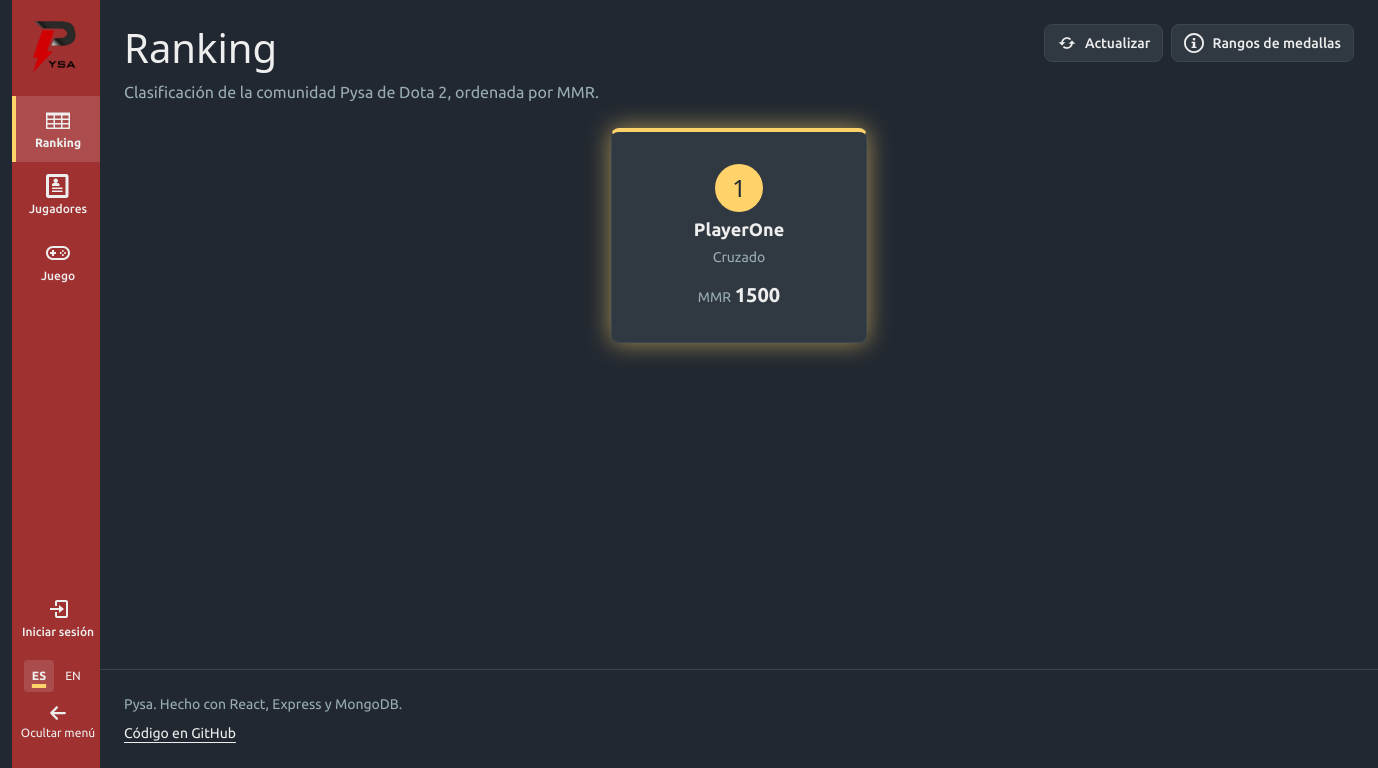
the document title › follows the route
The width and height of the screenshot is (1378, 768).
Expected: the text "PlayerOne" is shown, [694, 216, 784, 243]
Click the link "Jugadores". click: (58, 195)
box: [29, 174, 87, 215]
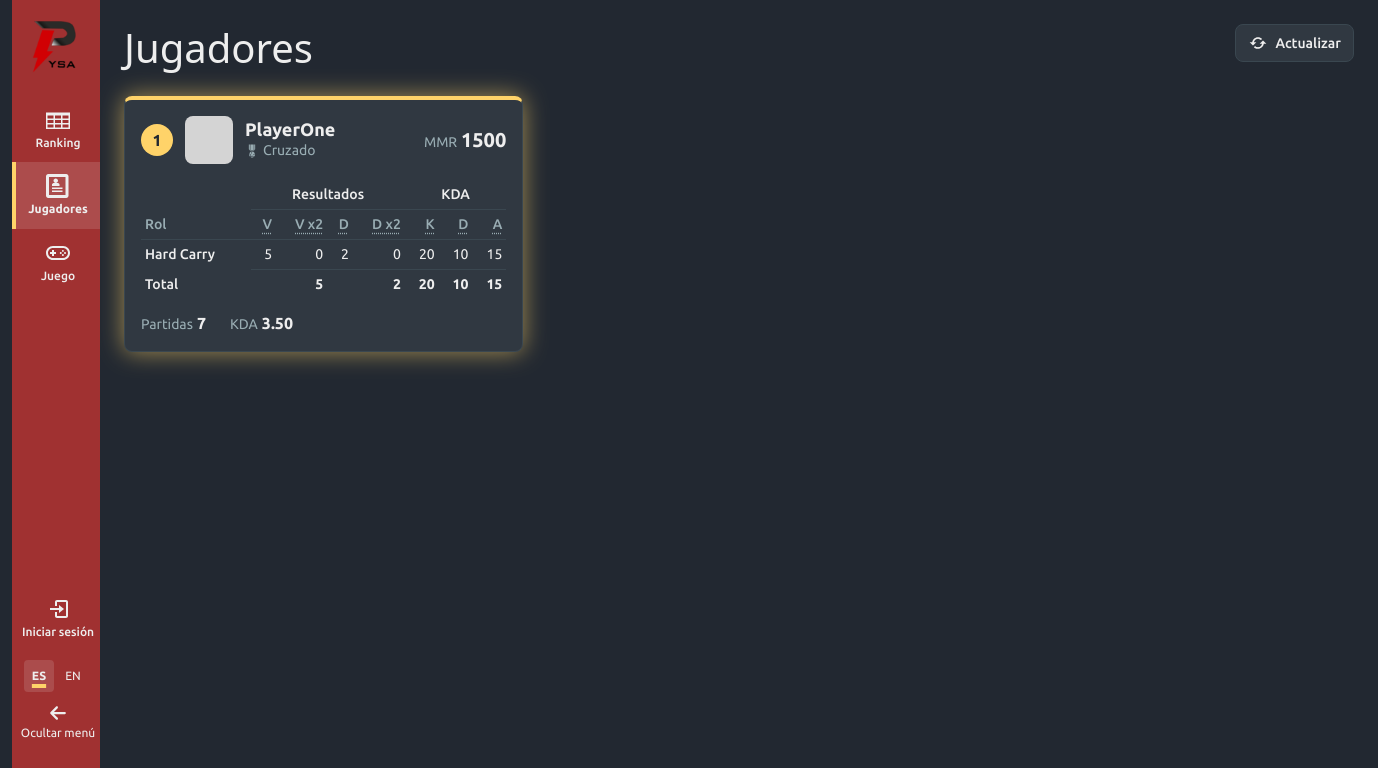
Result: the heading "Jugadores" is shown at [124, 20, 313, 75]
Click the link "Ranking". click: (58, 128)
box: [36, 108, 81, 149]
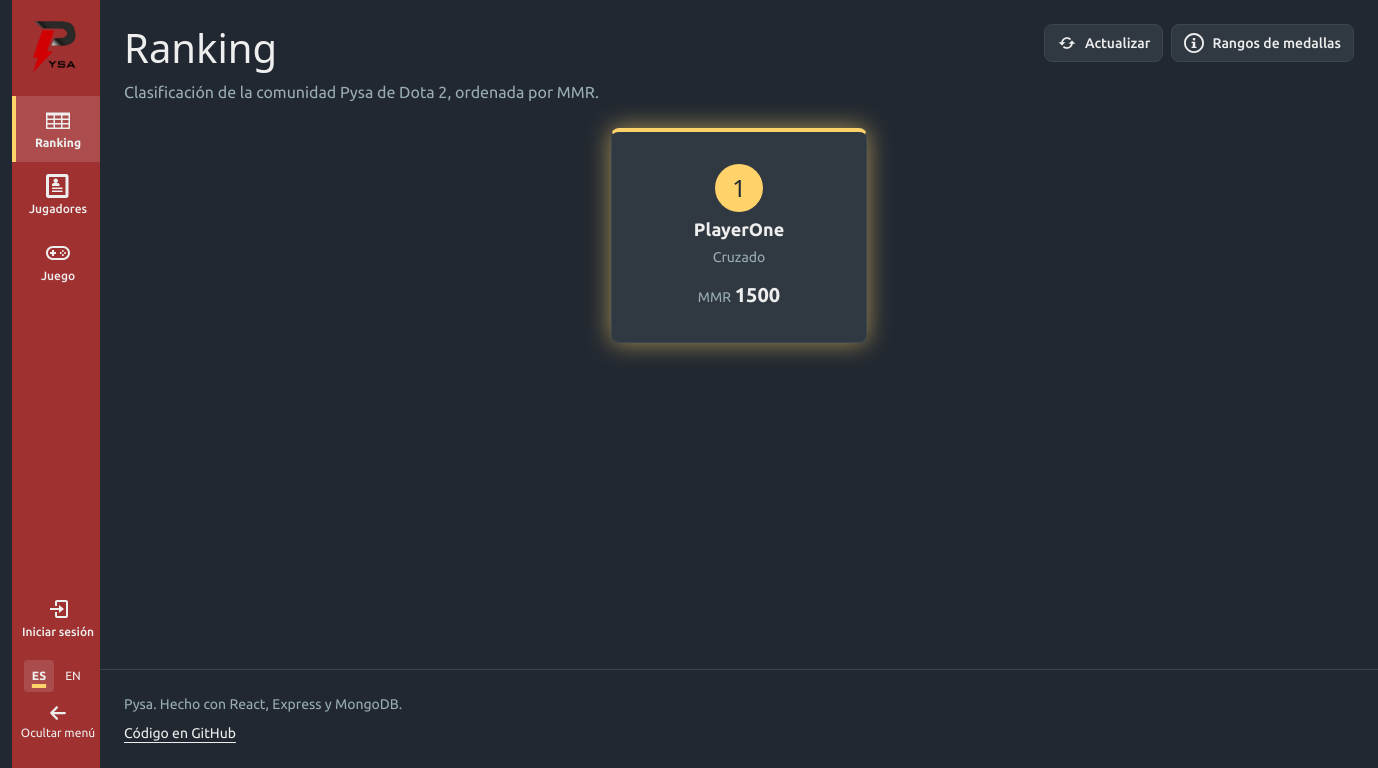
Result: the heading "Ranking" is shown at [124, 20, 277, 75]
